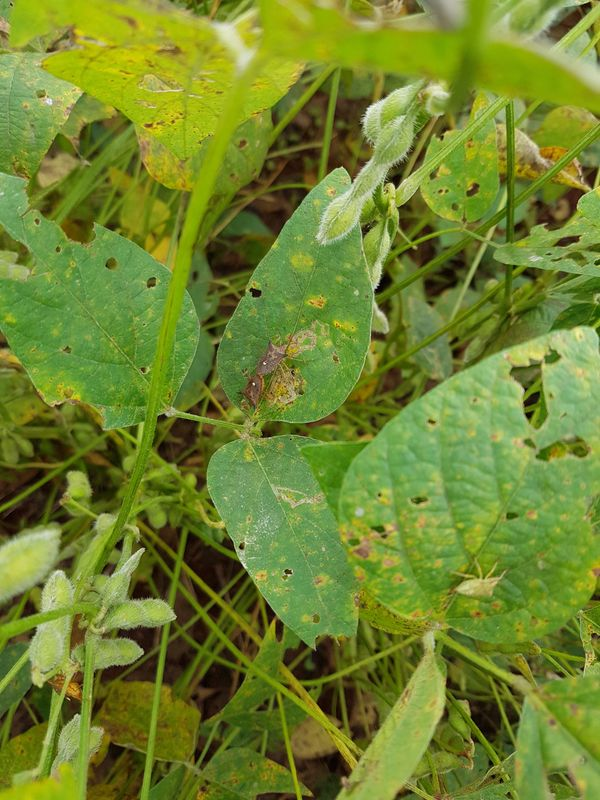Euschistus_heros_adulto: (252, 338, 293, 375), (233, 375, 267, 414), (44, 680, 88, 707)
Euschistus_heros_ninfa: (447, 555, 512, 610)
